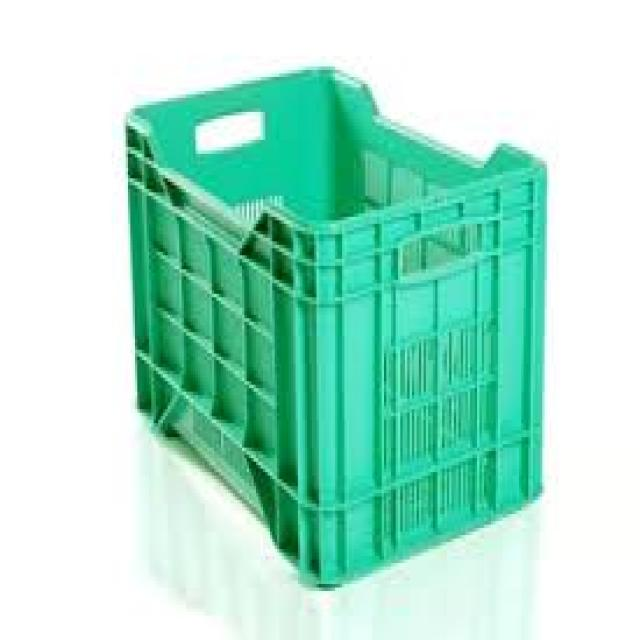basket: (123, 65, 548, 587)
